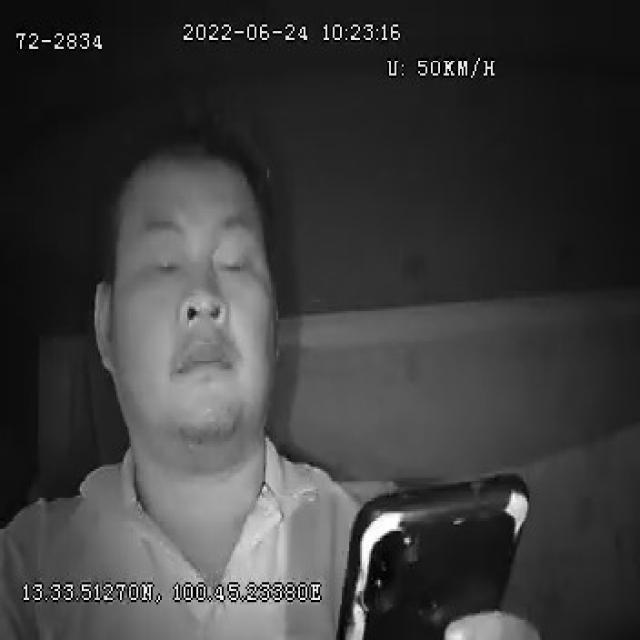phone: (339, 471, 530, 640)
